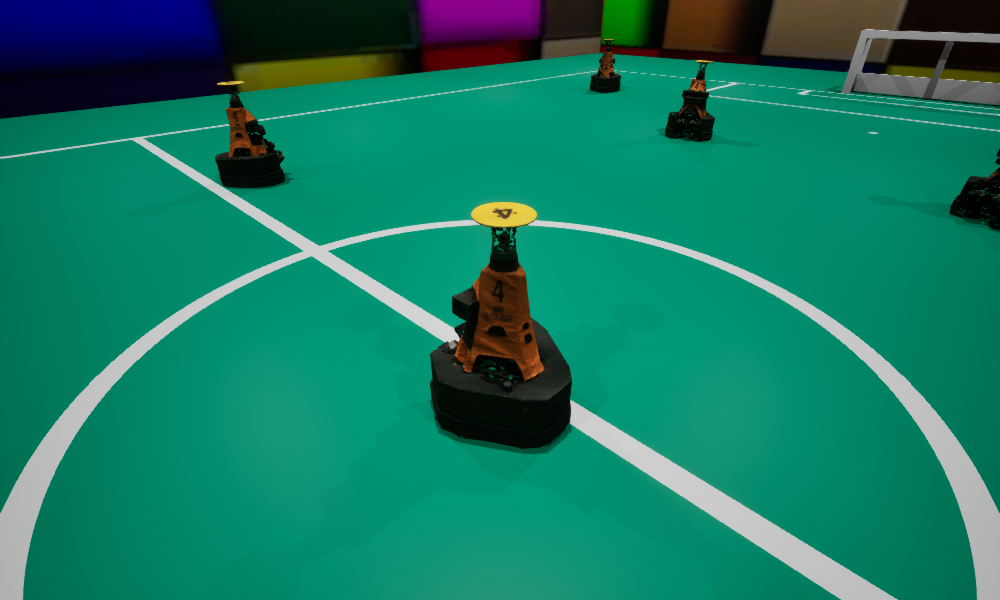o: (430, 202, 571, 448), (215, 81, 284, 187), (665, 60, 714, 140), (950, 149, 999, 228), (590, 39, 620, 92)
